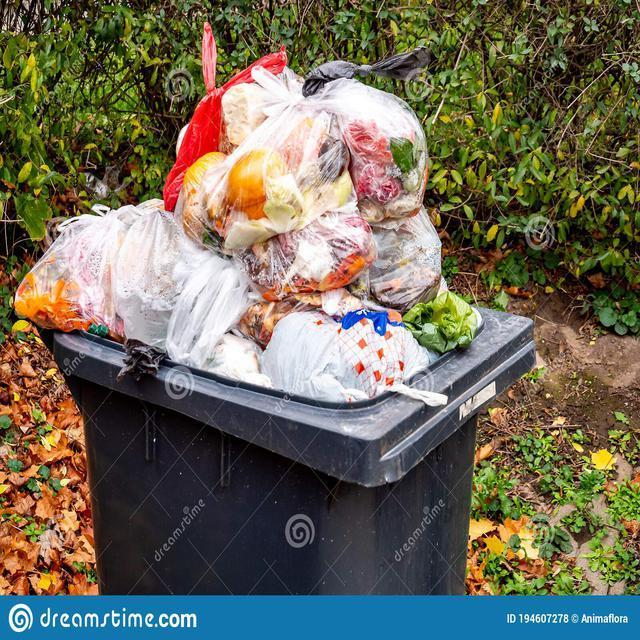garbage: (177, 53, 424, 377), (25, 212, 338, 326)
